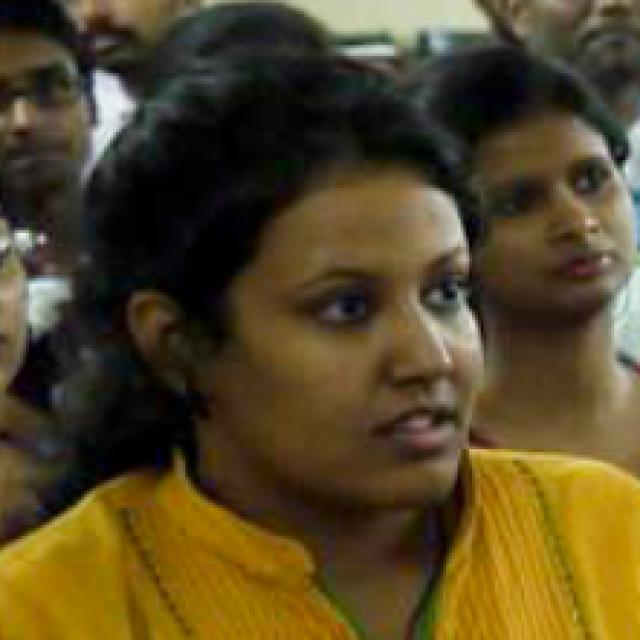Looking forward: (207, 160, 472, 505), (458, 108, 638, 314)
